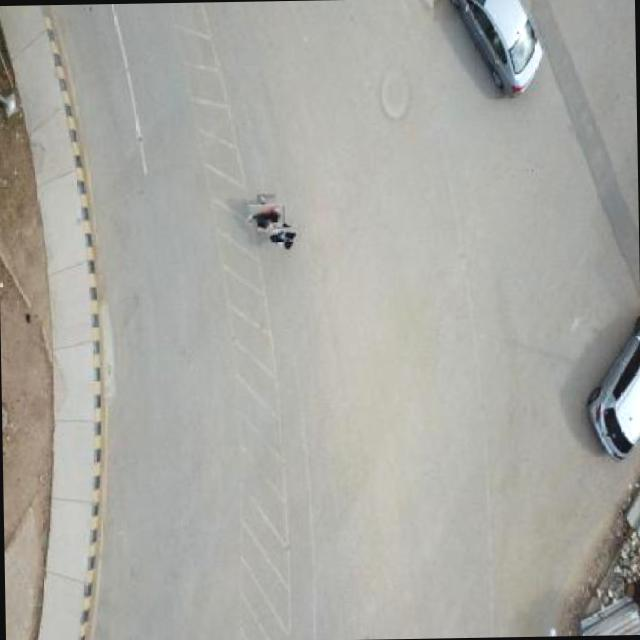Person: (250, 198, 280, 228), (272, 222, 298, 247)
